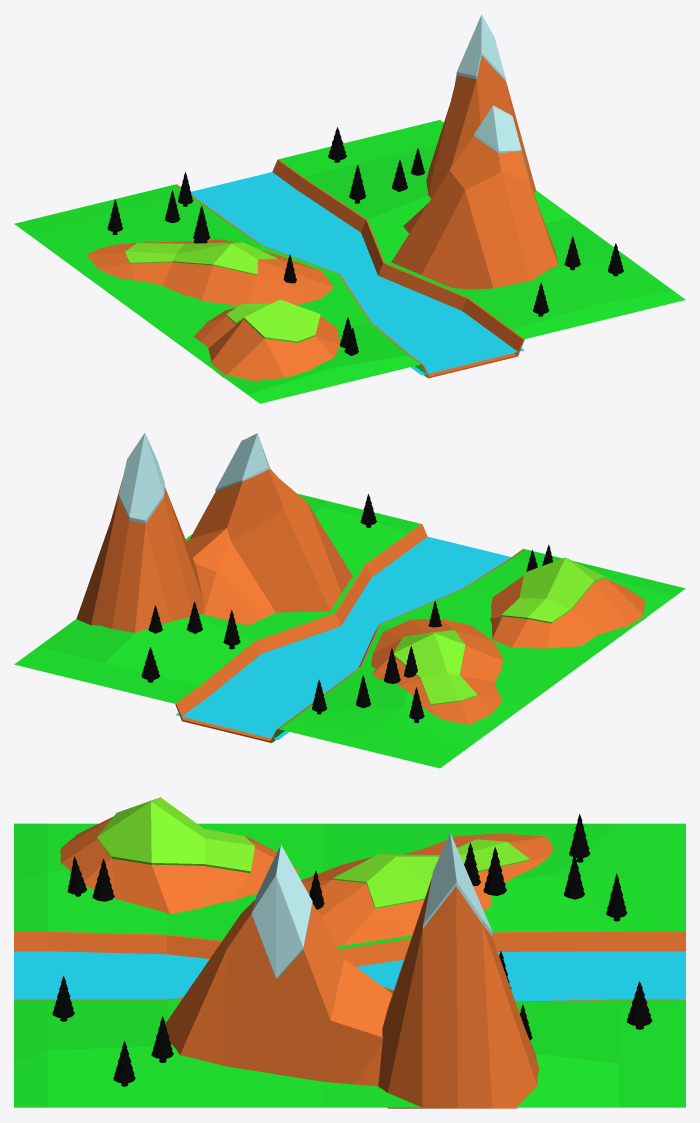
Rendered from Environment_game_Section_02.FBX.
The picture shows the model from 3 angles, top to bottom: view 1: azimuth 30°, elevation 25°; view 2: azimuth 150°, elevation 25°; view 3: azimuth 270°, elevation 25°; orthographic projection. The views are drawn at different scales.
Visible parts, largest first — view 1: ground, water, Plane004, Plane002, Plane006, Ground water, Plane003, Plane007, Plane005, Plane009, Plane008; view 2: ground, water, Plane004, Plane003, Plane006, Plane002, Ground water, Plane005, Plane007, Plane009, Plane008; view 3: ground, Plane004, Plane003, water, Ground water, Plane006, Plane002, Plane005, Plane007, Plane008, Plane009, Cylinder014 (+8 smaller).
Boxes of the visible parts, left/top/right/bottom form: ground: left=14, top=120, right=685, bottom=403; water: left=191, top=172, right=524, bottom=375; Plane004: left=391, top=136, right=558, bottom=289; Plane002: left=86, top=239, right=333, bottom=305; Plane006: left=194, top=307, right=339, bottom=380; Ground water: left=175, top=159, right=524, bottom=378; Plane003: left=426, top=55, right=535, bottom=198; Plane007: left=124, top=242, right=277, bottom=275; Plane005: left=226, top=299, right=320, bottom=342; Plane009: left=455, top=14, right=506, bottom=82; Plane008: left=474, top=105, right=528, bottom=178; ground: left=14, top=493, right=685, bottom=768; water: left=175, top=536, right=511, bottom=739; Plane004: left=186, top=468, right=352, bottom=624; Plane003: left=76, top=480, right=203, bottom=632; Plane006: left=490, top=575, right=646, bottom=648; Plane002: left=370, top=618, right=503, bottom=724; Ground water: left=175, top=524, right=523, bottom=742; Plane005: left=501, top=557, right=605, bottom=623; Plane007: left=393, top=630, right=477, bottom=704; Plane009: left=119, top=433, right=164, bottom=523; Plane008: left=215, top=433, right=269, bottom=490; ground: left=14, top=823, right=685, bottom=1107; Plane004: left=165, top=899, right=393, bottom=1086; Plane003: left=378, top=879, right=539, bottom=1108; water: left=14, top=951, right=685, bottom=1001; Ground water: left=14, top=931, right=685, bottom=1001; Plane006: left=60, top=816, right=298, bottom=914; Plane002: left=301, top=833, right=553, bottom=945; Plane005: left=97, top=797, right=254, bottom=872; Plane007: left=332, top=839, right=529, bottom=908; Plane008: left=251, top=845, right=312, bottom=979; Plane009: left=422, top=833, right=492, bottom=936; Cylinder014: left=627, top=981, right=652, bottom=1029.
Bounding box in the file's own units: 50 × 21.93 × 50.
